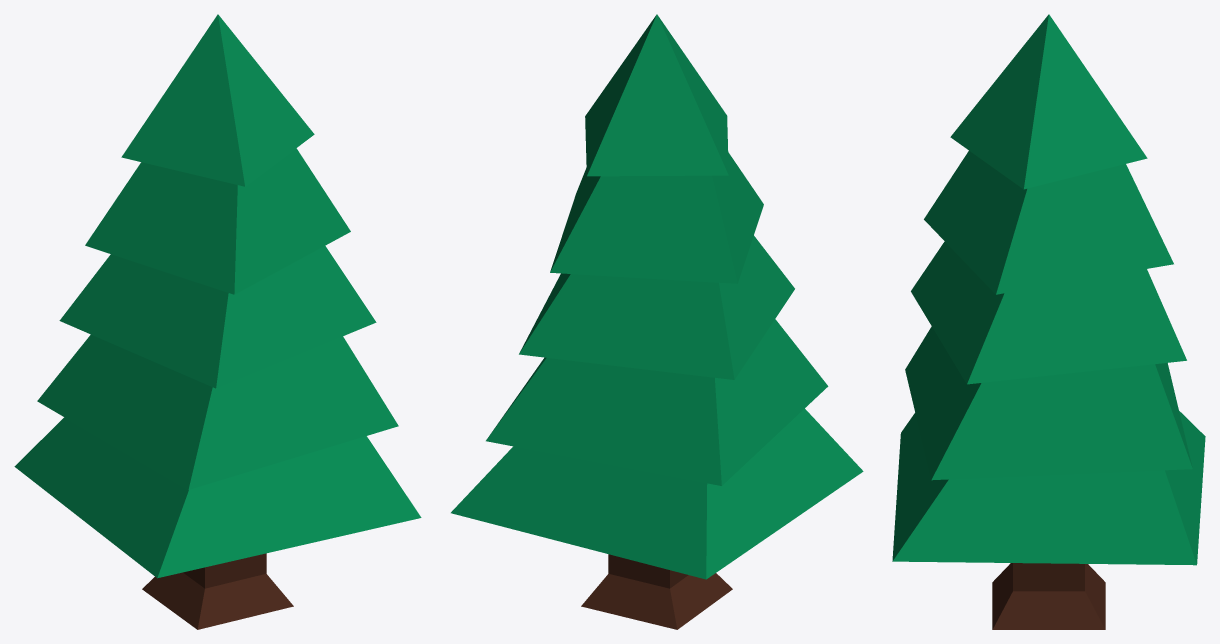
Rendered from tree4.fbx.
3 views of the same model, side by side, from view 1: azimuth 30°, elevation 25°; view 2: azimuth 150°, elevation 25°; view 3: azimuth 270°, elevation 25° (orthographic).
Visible parts, largest first — view 1: Pyramid, Cube; view 2: Pyramid, Cube; view 3: Pyramid, Cube.
Part boxes in pixels (<box>): Pyramid: <box>14,14,421,578</box>; Cube: <box>142,553,293,629</box>; Pyramid: <box>451,14,863,579</box>; Cube: <box>581,554,732,629</box>; Pyramid: <box>892,14,1205,565</box>; Cube: <box>992,563,1105,629</box>.
Size of the model in its own units: 435 by 907 by 435.
